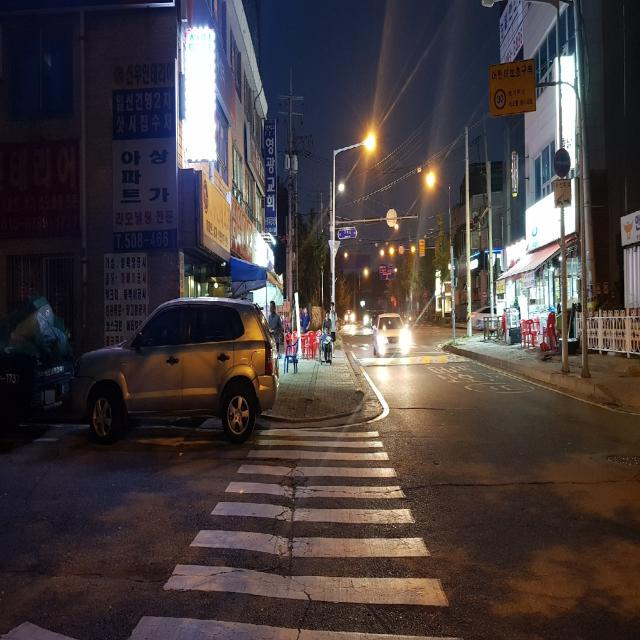횡단보도: (126, 424, 451, 640)
